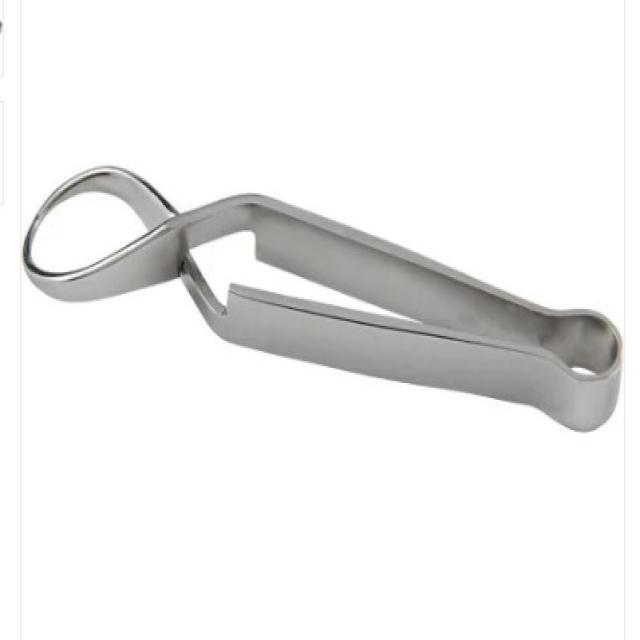Doyen Cross Action Towel Clamp: (19, 155, 626, 443)
